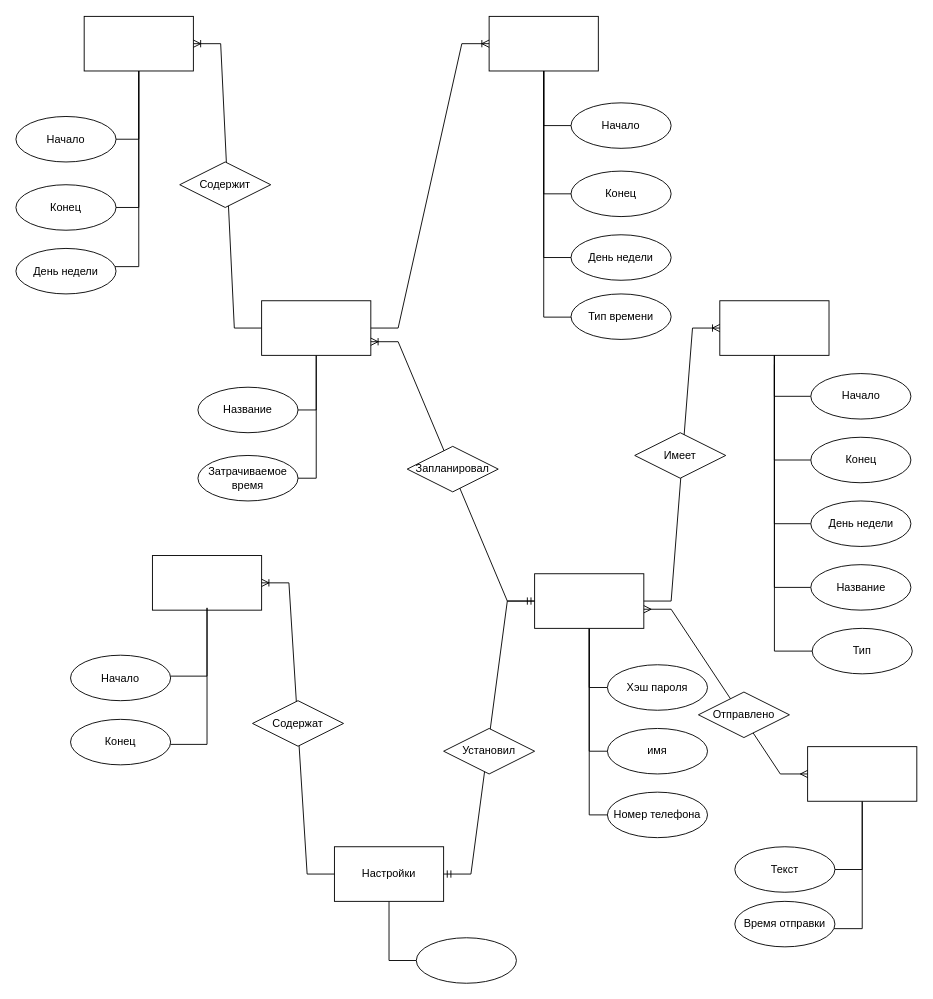
Image size: 933x999. Some labels were removed from this diagram. Here are the shapes that lost their labels. From the top down, the centre of each, then its label:
At pixel 138 43: "Фактические временные промежутки выполнения".
At pixel 543 43: "Предпочтительное или жесткое допустимое время выполнения".
At pixel 316 327: "Привычка".
At pixel 774 327: "Событие в расписании".
At pixel 207 582: "Запрещенное время посылки уведомлений".
At pixel 589 600: "Пользователь".
At pixel 862 773: "Сообщение".
At pixel 465 960: "Включены ли уведомления".
